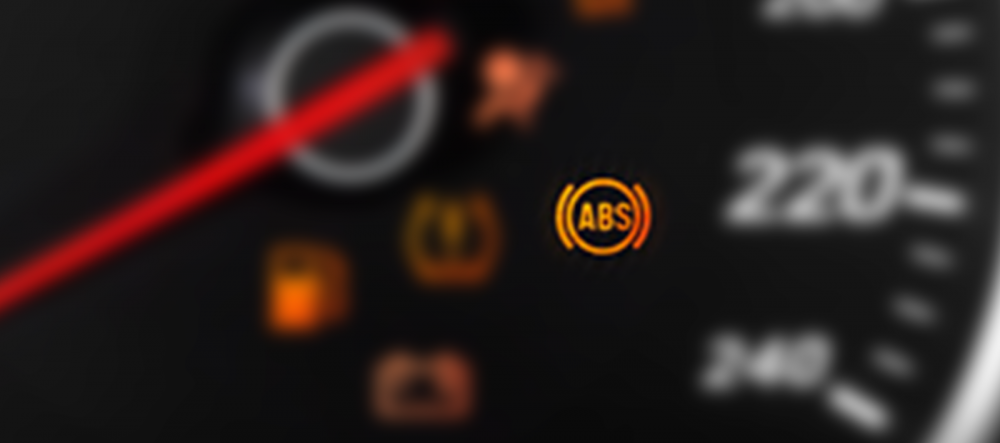ABS: (544, 173, 657, 260)
